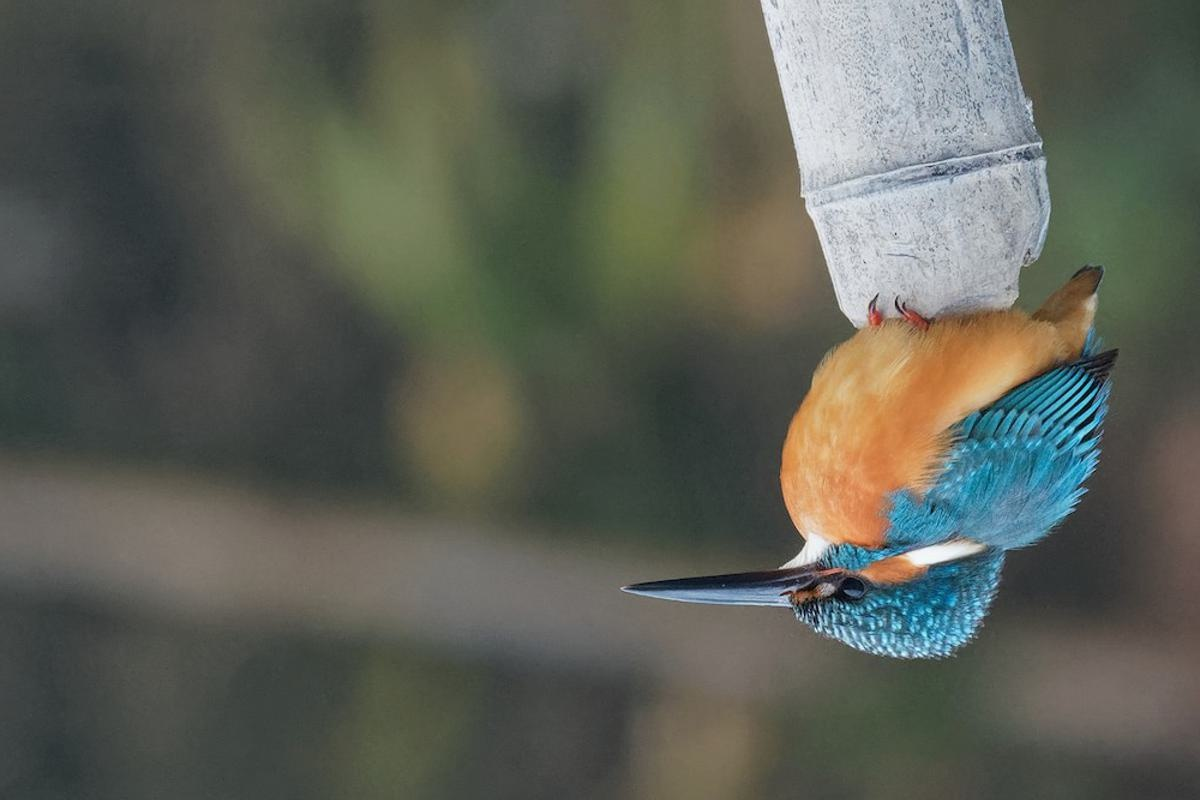kingfisher: (616, 279, 1121, 651)
